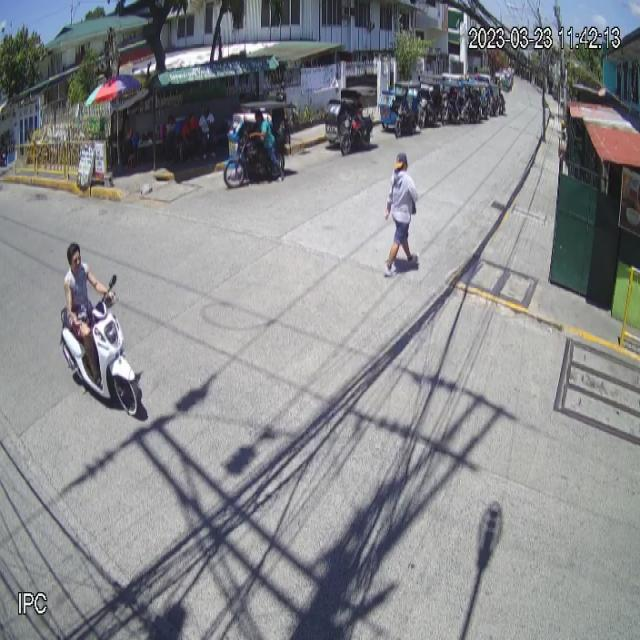Motorcycle: (58, 274, 143, 419)
